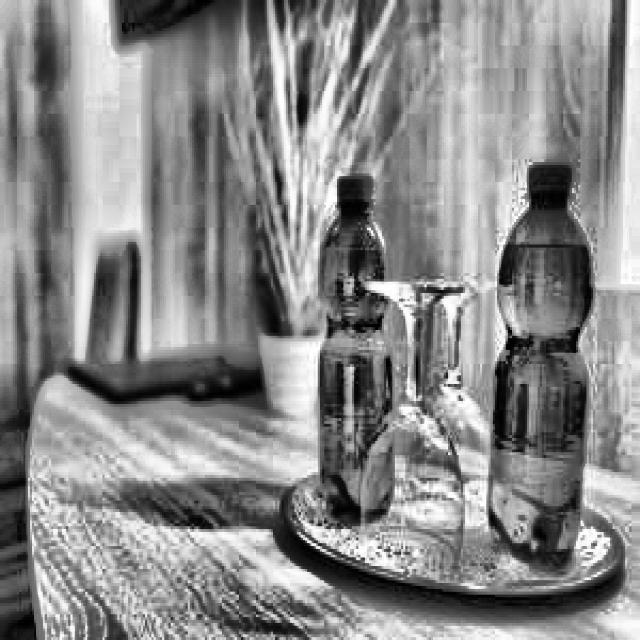waterbottle: (480, 147, 608, 588), (308, 163, 403, 531)
